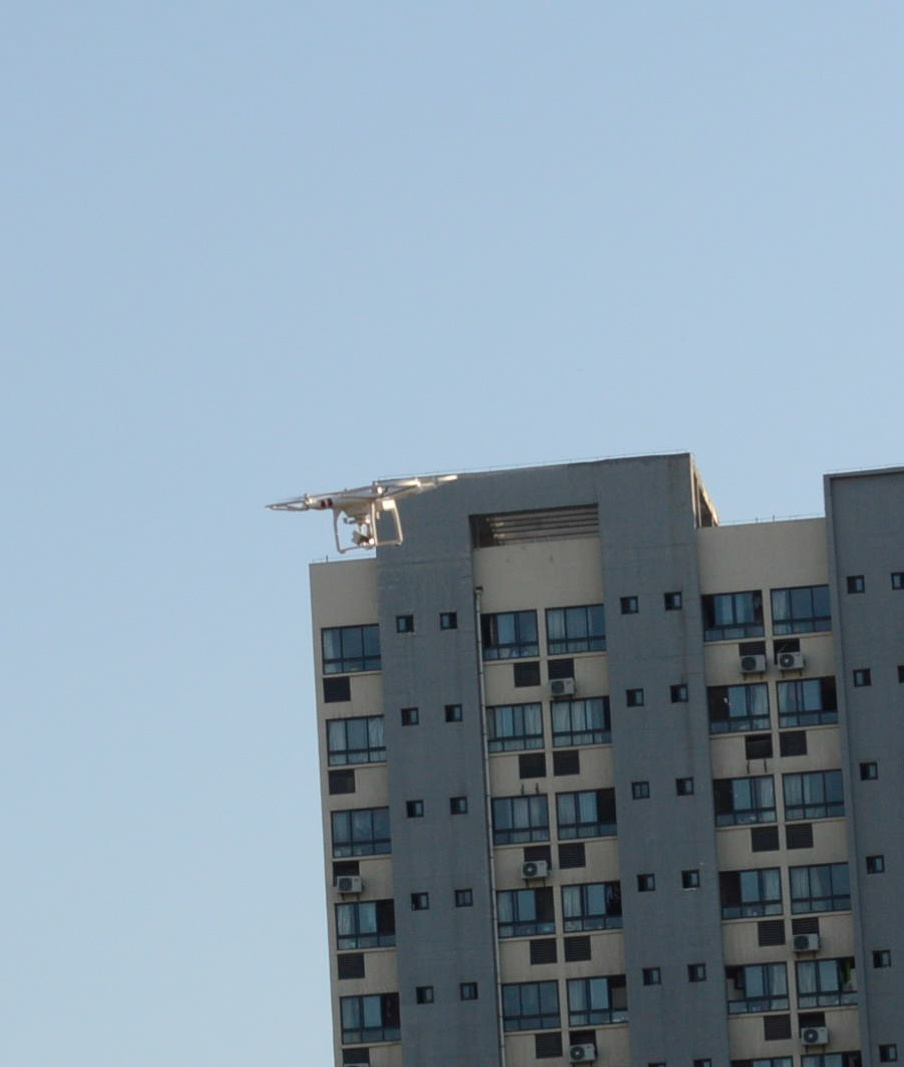DJI: (265, 472, 458, 553)
